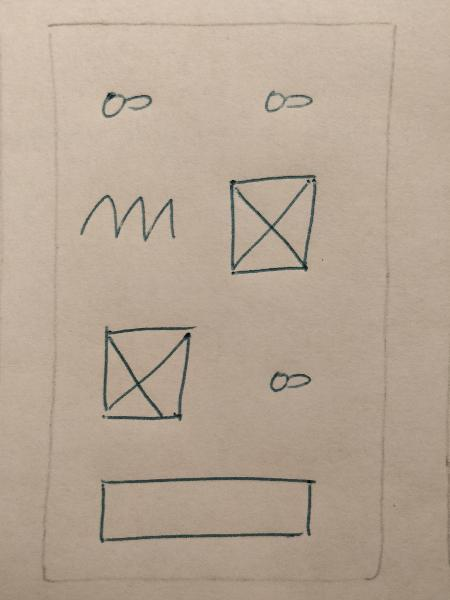image: (89, 310, 212, 430), (216, 166, 327, 284)
switch: (250, 357, 326, 411), (89, 78, 160, 134), (253, 75, 321, 127)
text: (75, 186, 177, 248)
text_input: (82, 465, 327, 555)
